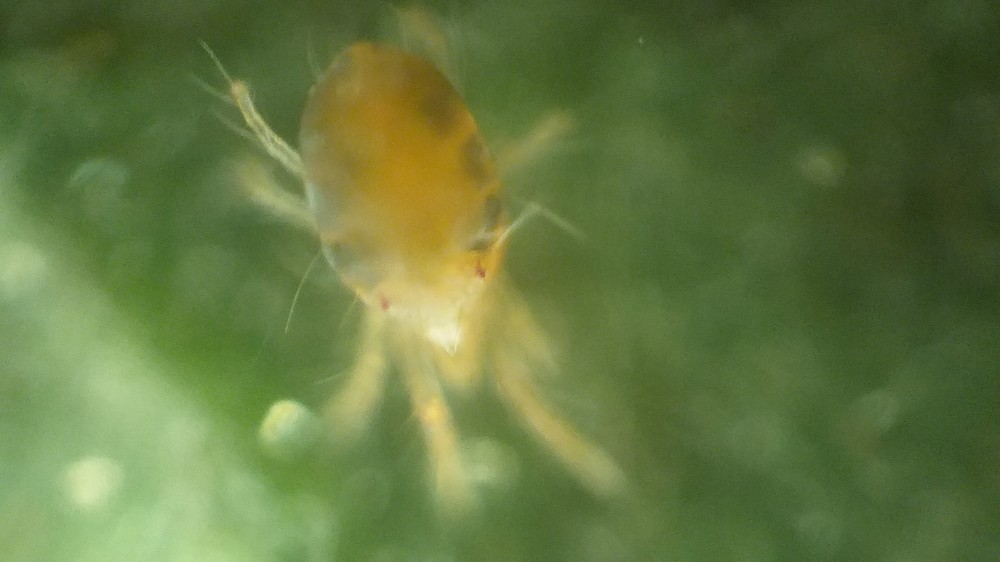Aracnido Rojo: (204, 7, 637, 522)
